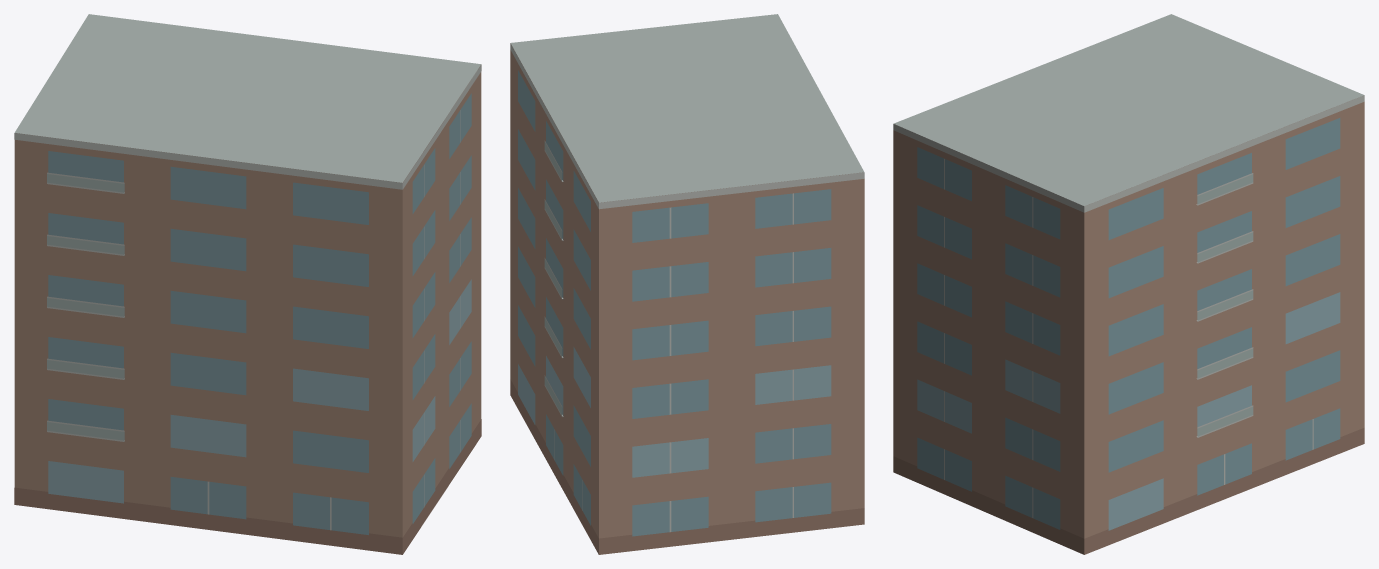
File: survey-upis-32885802.glb
3 views of the same model, side by side, from view 1: azimuth 30°, elevation 25°; view 2: azimuth 150°, elevation 25°; view 3: azimuth 270°, elevation 25° (orthographic). The views are drawn at different scales.
Parts seen in each view (by area): view 1: survey-upis-32885802.tmp; view 2: survey-upis-32885802.tmp; view 3: survey-upis-32885802.tmp.
Part boxes in pixels (box(x1,y1,x2,y2)): survey-upis-32885802.tmp: box(14, 14, 481, 554); survey-upis-32885802.tmp: box(510, 14, 864, 554); survey-upis-32885802.tmp: box(893, 14, 1364, 554).
Bounding box in the file's own units: 15.5 × 13.1 × 16.06.
